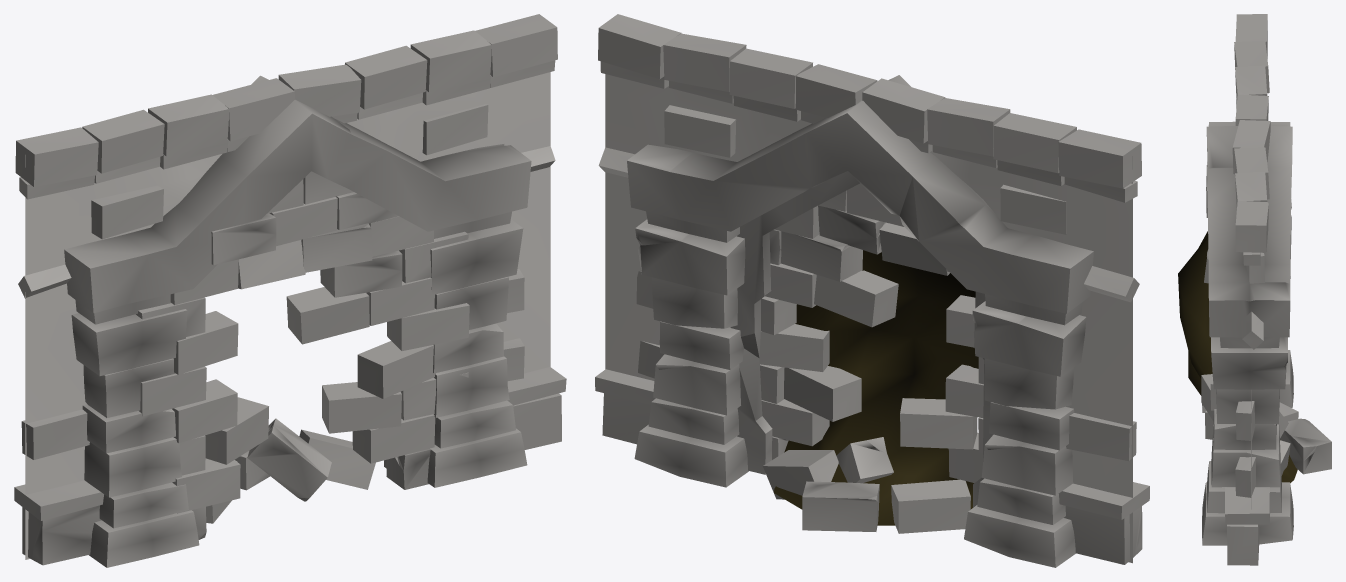
File: wall_archPointy_bricksBroken_LOW.FBX
3 views of the same model, side by side, from view 1: azimuth 30°, elevation 25°; view 2: azimuth 150°, elevation 25°; view 3: azimuth 270°, elevation 25° (orthographic). The views are drawn at different scales.
Visible parts, largest first — view 1: wall_archPointy_bricksBroken_LOW; view 2: wall_archPointy_bricksBroken_LOW; view 3: wall_archPointy_bricksBroken_LOW.
Part boxes in pixels (x1,y1,x2,y2): wall_archPointy_bricksBroken_LOW: [14, 14, 566, 567]; wall_archPointy_bricksBroken_LOW: [595, 14, 1149, 567]; wall_archPointy_bricksBroken_LOW: [1178, 14, 1331, 565].
Bounding box in the file's own units: 8.02 × 6.21 × 2.45.
